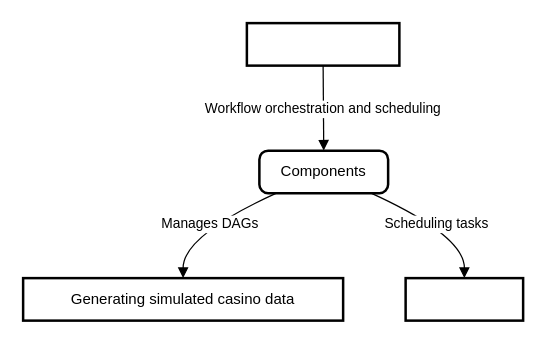
Image size: 545x343. Some labels were removed from this diagram. The shapes that lost their labels are listed below. From the top down, each one's box as (x1, y1, x2, y2) in pixels, then its label:
(245, 21, 400, 66): Apache Airflow
(404, 276, 524, 321): PostgreSQL
